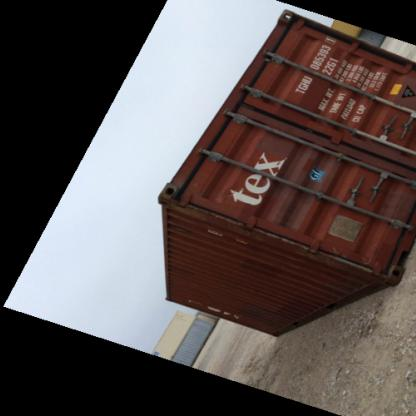Damage: (178, 194, 238, 234), (254, 221, 308, 262), (320, 248, 370, 279)
